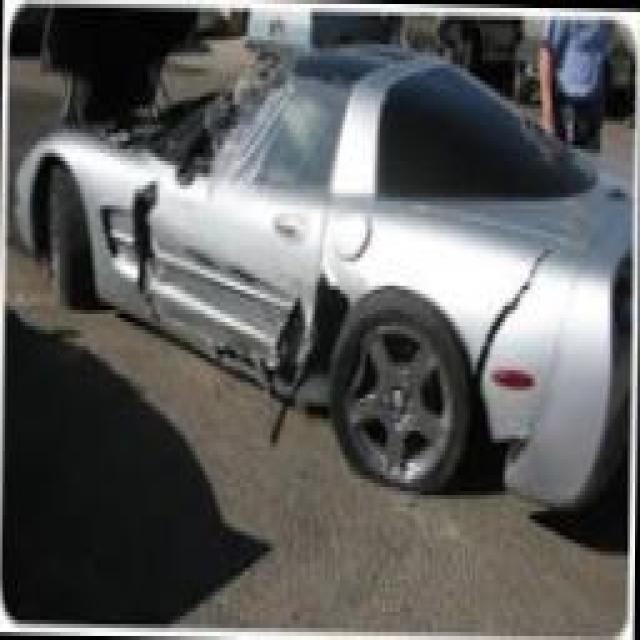Door: (138, 72, 311, 362)
Fender: (468, 237, 576, 491)
